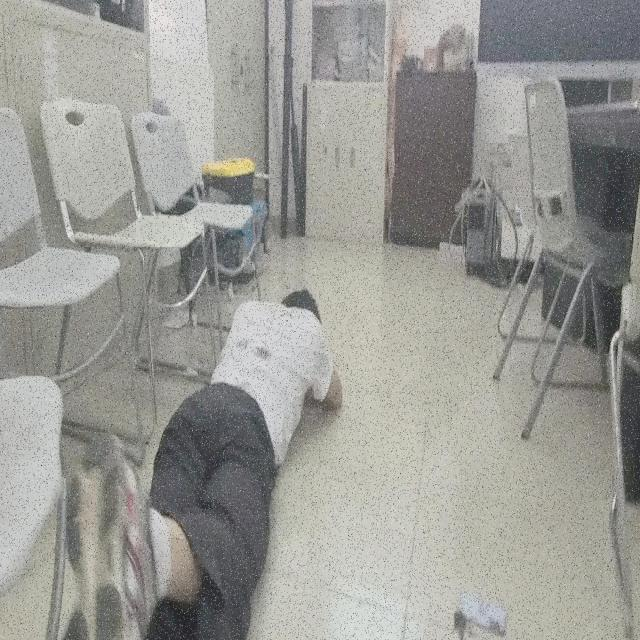fall: (61, 288, 346, 640)
